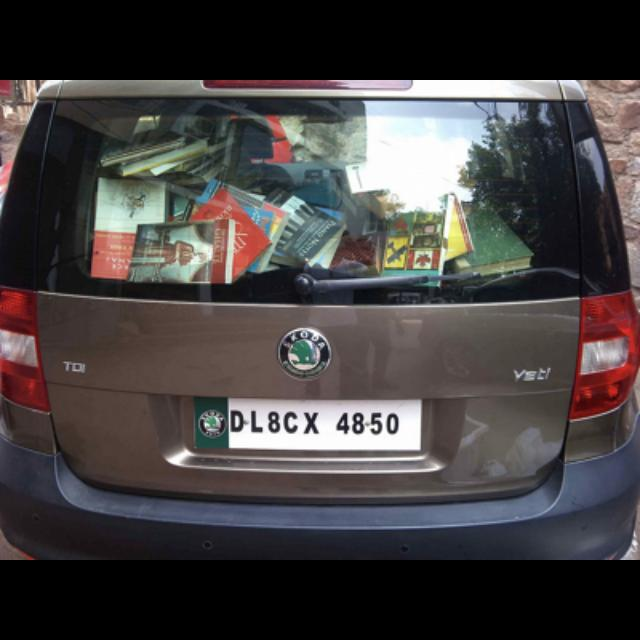carPlate: (194, 396, 420, 449)
